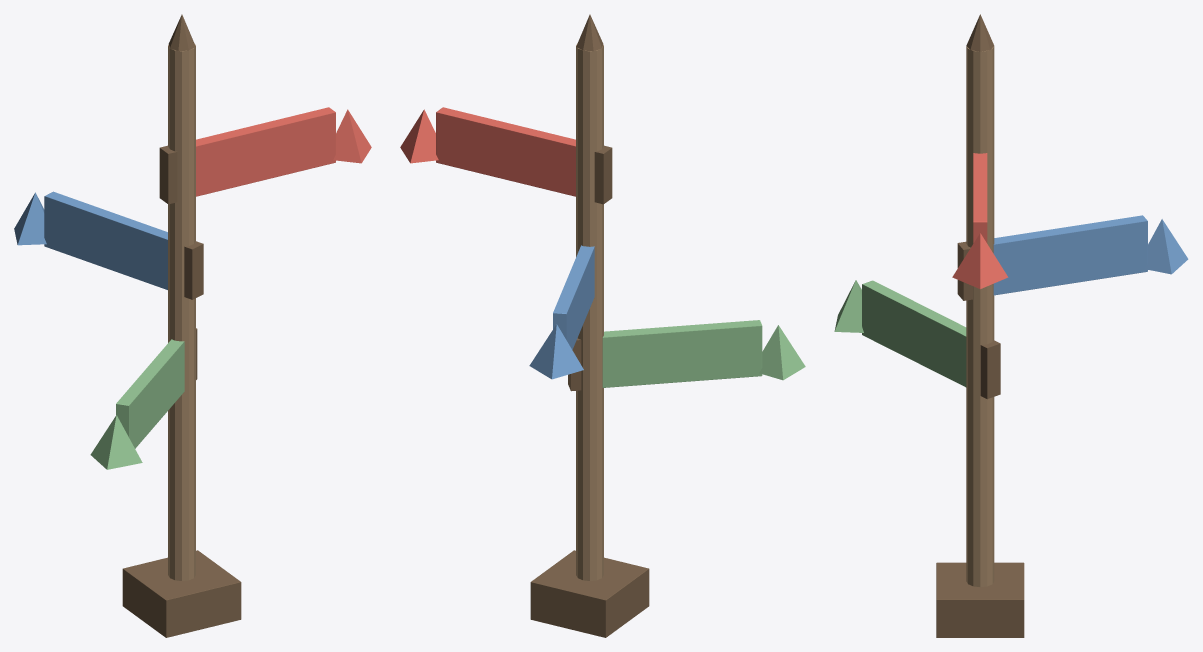
The model's file is signpost_painted.glb.
The picture shows the model from 3 angles, left to right: view 1: azimuth 30°, elevation 25°; view 2: azimuth 150°, elevation 25°; view 3: azimuth 270°, elevation 25°; orthographic projection.
Visible parts, largest first — view 1: signpost_painted; view 2: signpost_painted; view 3: signpost_painted.
Boxes of the visible parts, <box> form: signpost_painted: <box>14,14,371,637</box>; signpost_painted: <box>400,14,805,637</box>; signpost_painted: <box>834,14,1188,637</box>.
Bounding box in the file's own units: 1.11 × 1.9 × 1.01.
